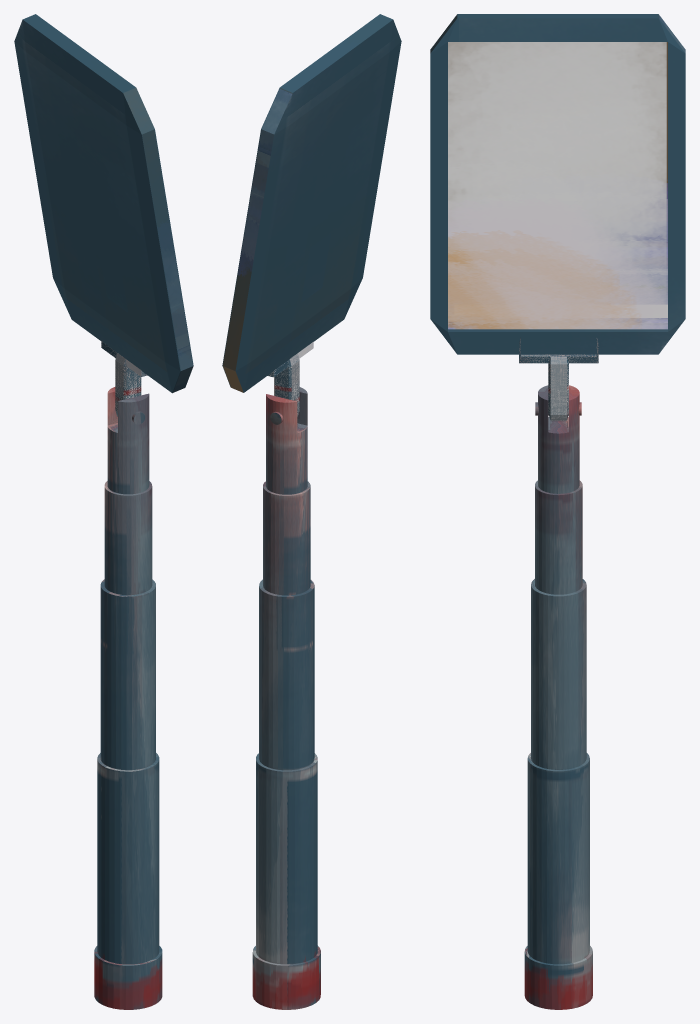
File: LO_mirrorstick.glb
3 views of the same model, side by side, from view 1: azimuth 30°, elevation 25°; view 2: azimuth 150°, elevation 25°; view 3: azimuth 270°, elevation 25° (orthographic).
Visible parts, largest first — view 1: mirrorstick; view 2: mirrorstick; view 3: mirrorstick.
Part boxes in pixels (x1,y1,x2,y2): mirrorstick: (14, 14, 193, 1009); mirrorstick: (222, 14, 401, 1009); mirrorstick: (430, 14, 685, 1009).
Size of the model in its own units: 0.0698 by 0.746 by 0.1804.
1 material, 1 textured.
